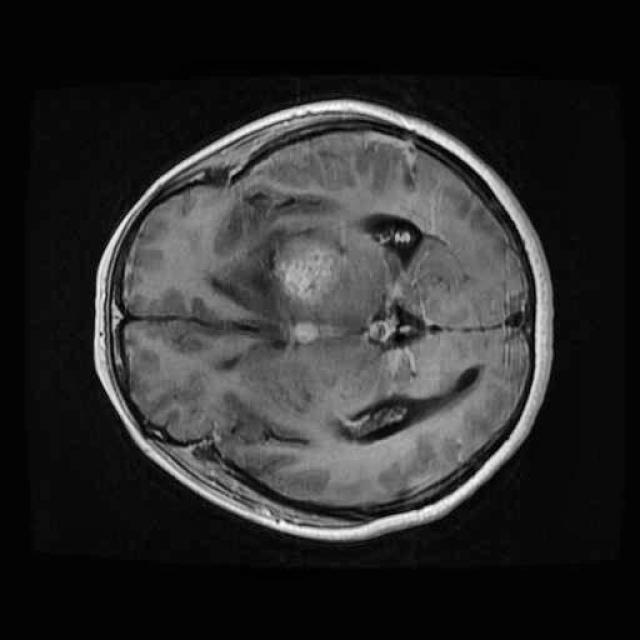Tumor: (249, 208, 370, 362)
